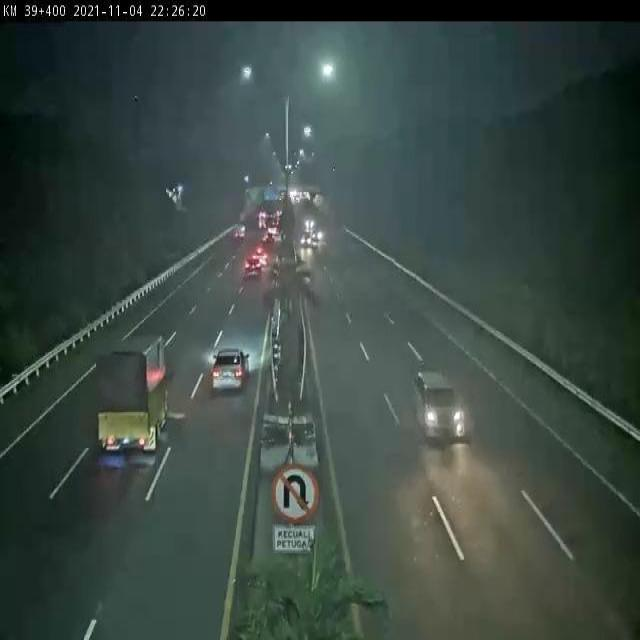ARABA: (413, 367, 463, 437), (213, 346, 246, 390), (242, 255, 263, 276), (254, 248, 269, 265), (300, 232, 312, 247)
KAMYONET: (94, 340, 169, 469)
